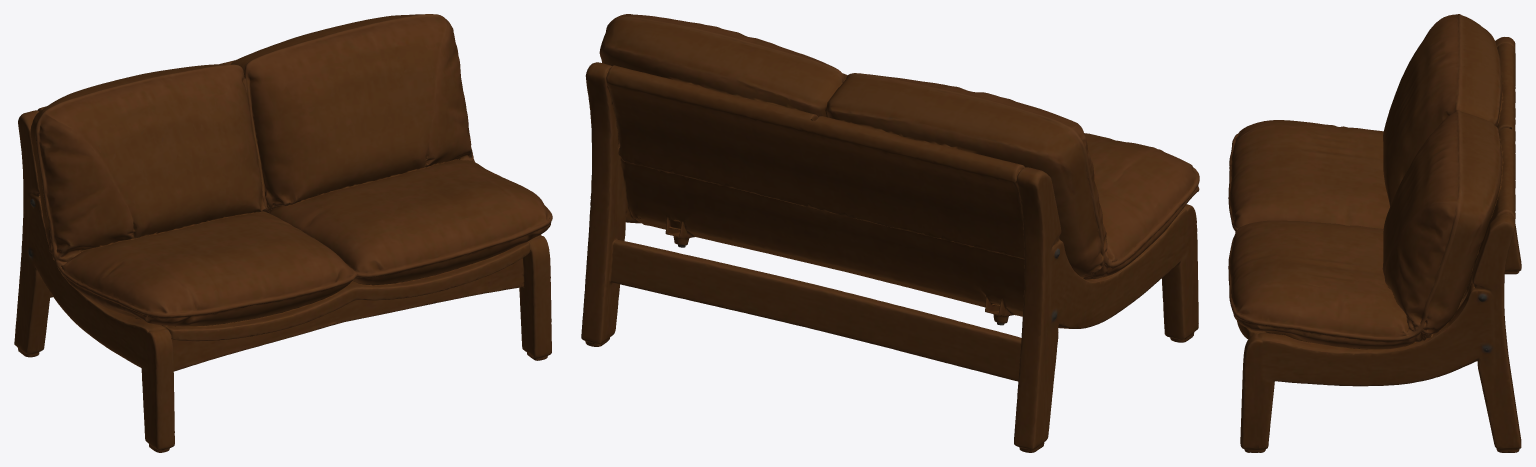
File: unidentified_model_2fwdsf.glb
The picture shows the model from 3 angles, left to right: view 1: azimuth 30°, elevation 25°; view 2: azimuth 150°, elevation 25°; view 3: azimuth 270°, elevation 25°; orthographic projection. The views are drawn at different scales.
Visible parts, largest first — view 1: world; view 2: world; view 3: world.
Boxes of the visible parts, x1=… form: world: x1=14, y1=14, x2=552, y2=452; world: x1=581, y1=14, x2=1199, y2=452; world: x1=1228, y1=14, x2=1521, y2=452.
Size of the model in its own units: 0.9997 by 0.6131 by 0.624.
Materials: 1 (1 with a texture image).
